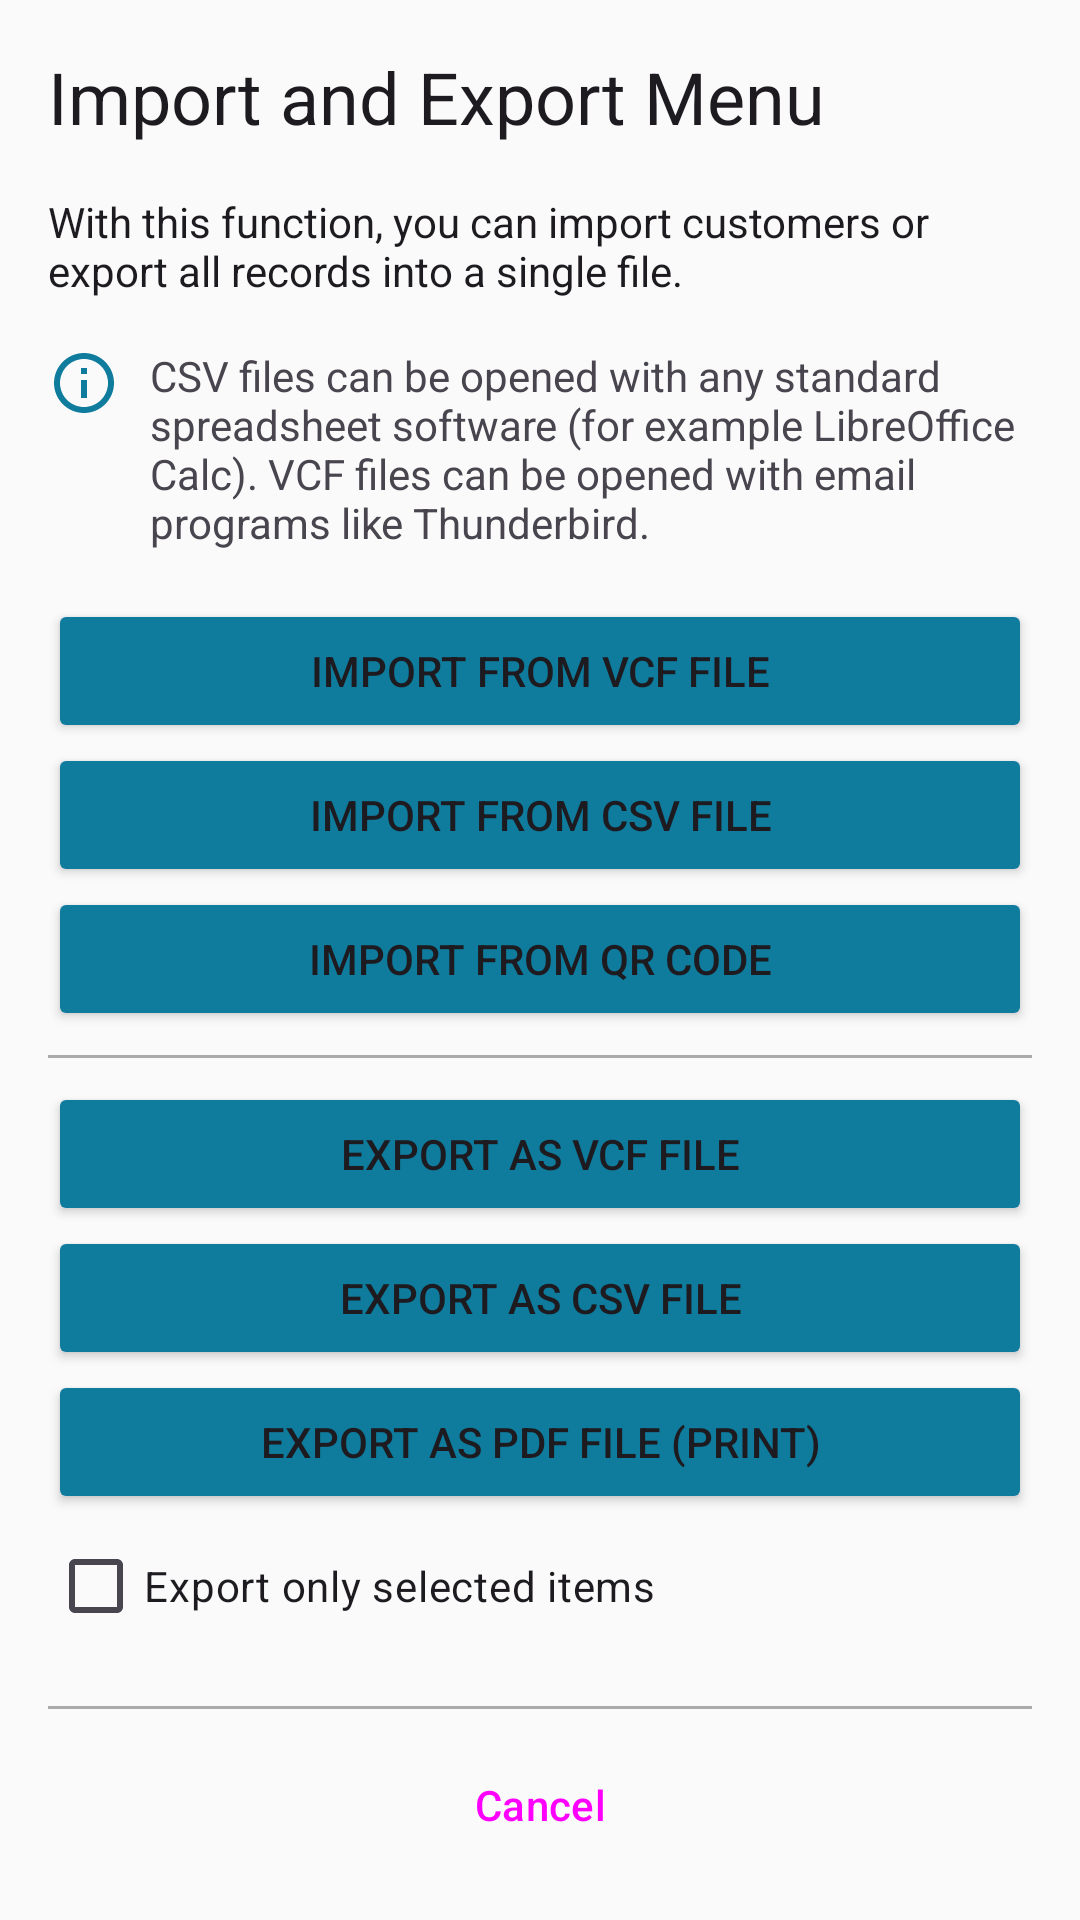

Named icons in this screenshot (1080*1920) and their centers, (x=x, y=y):
info: (x=84, y=383)
